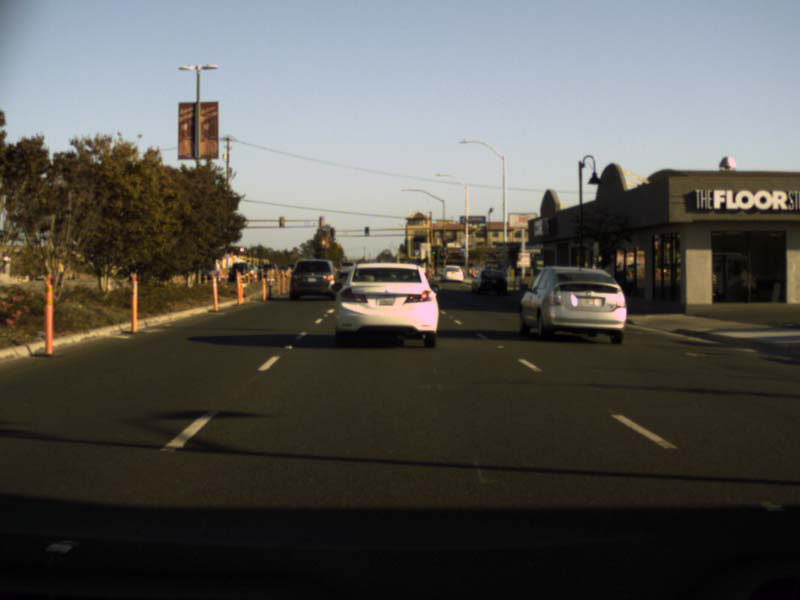Green: (364, 225, 369, 236), (442, 240, 447, 251), (431, 246, 436, 255)
